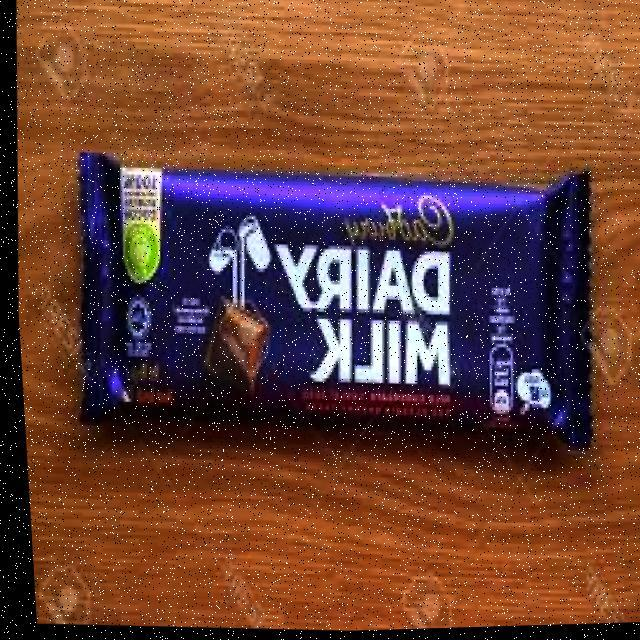cadbury_chocolate: (78, 163, 585, 457)
